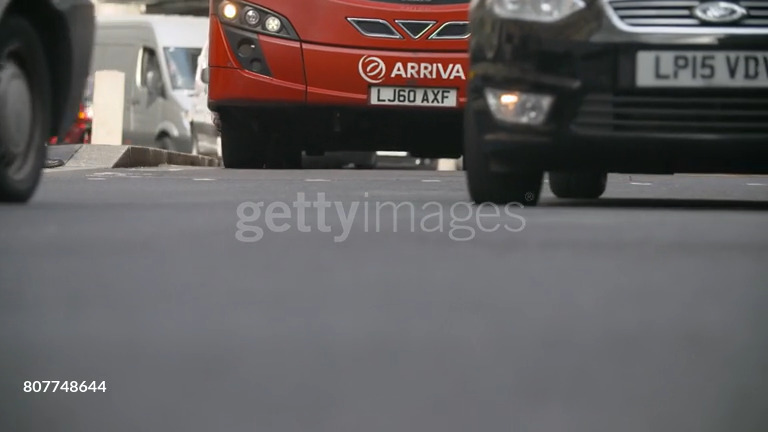car number: (631, 50, 763, 85), (367, 84, 458, 104)
